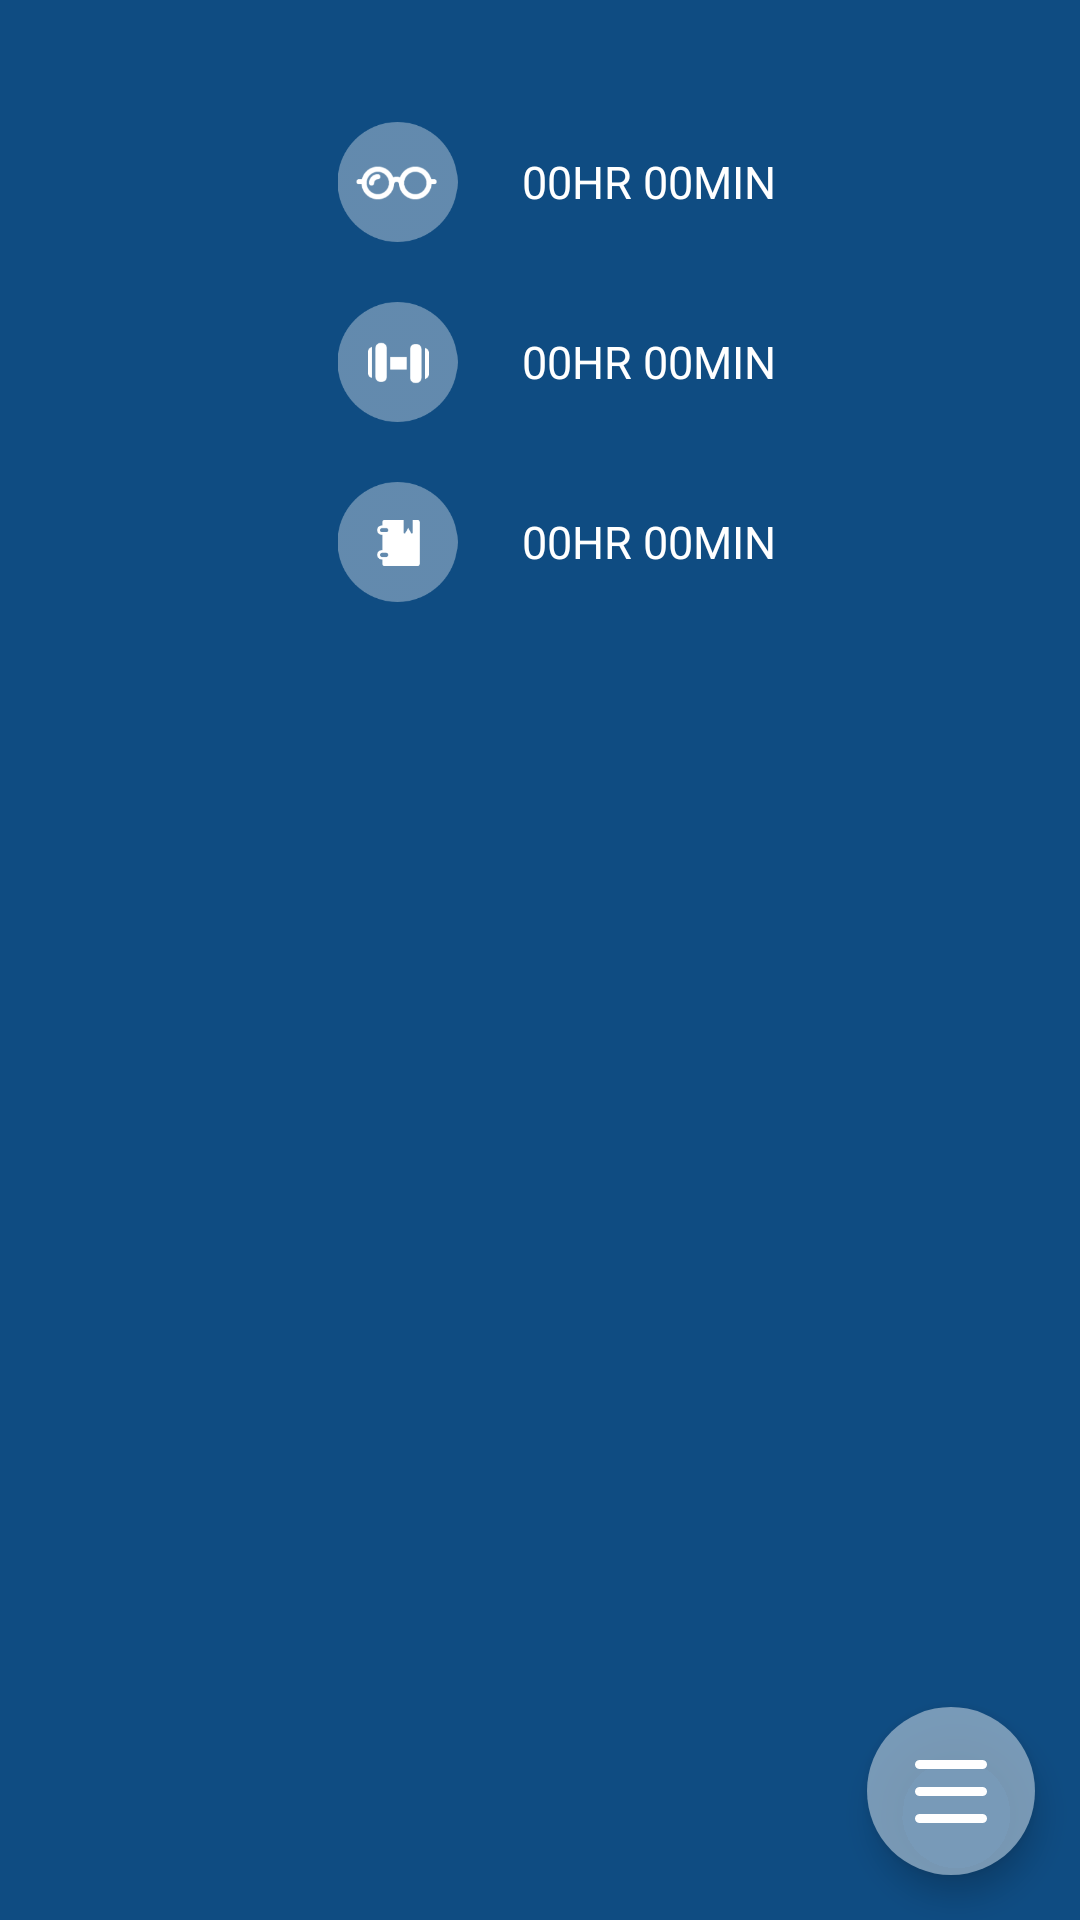

Icon click points for this 1080 × 1920 phone screenshot, format (x,y):
book: (398,542)
dumbbell: (398,362)
glasses: (398,182)
